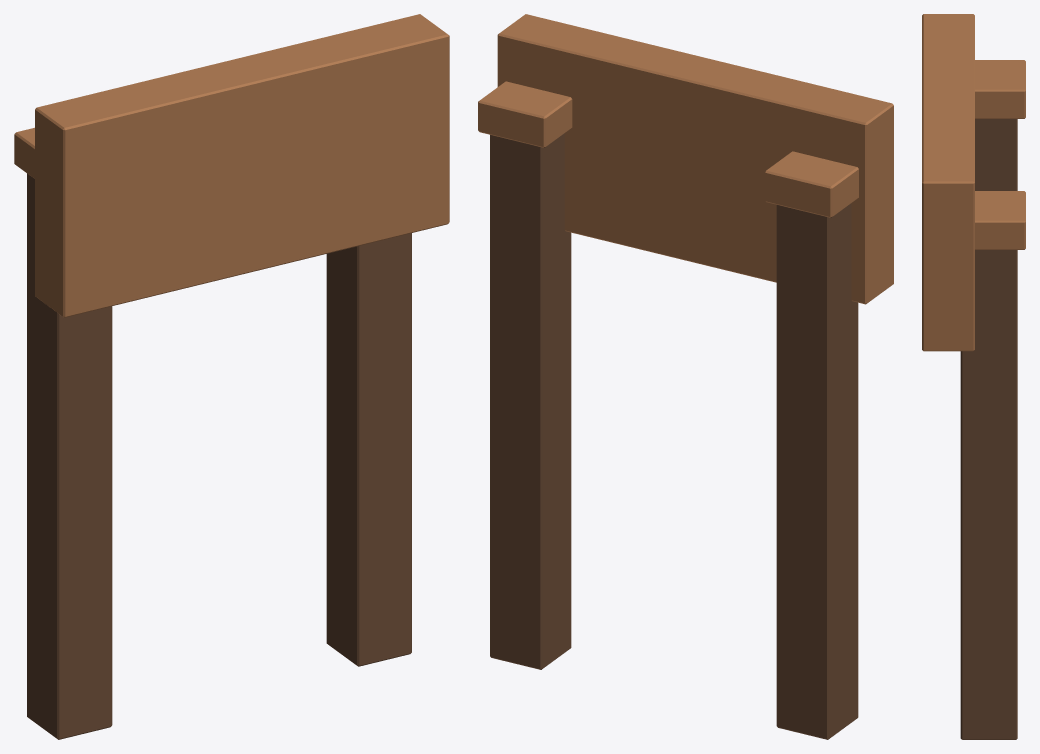
Rendered from wood_sign_large_01.glb.
3 renders of one model, left to right at view 1: azimuth 30°, elevation 25°; view 2: azimuth 150°, elevation 25°; view 3: azimuth 270°, elevation 25°, orthographic. The views are drawn at different scales.
Parts seen in each view (by area): view 1: wood_sign_large_01; view 2: wood_sign_large_01; view 3: wood_sign_large_01.
Part boxes in pixels (bbox=[...]): wood_sign_large_01: bbox=[14, 14, 449, 739]; wood_sign_large_01: bbox=[478, 14, 893, 739]; wood_sign_large_01: bbox=[922, 14, 1025, 739].
Size of the model in its own units: 0.98 by 1.53 by 0.255.
